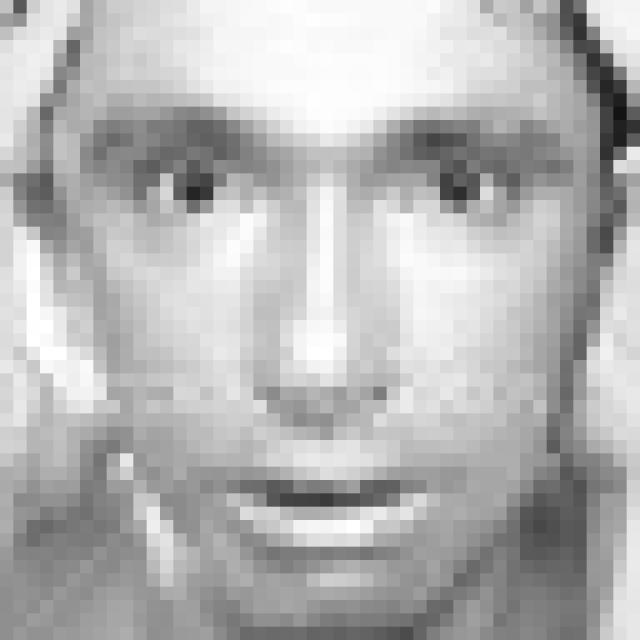fear: (90, 93, 569, 608)
